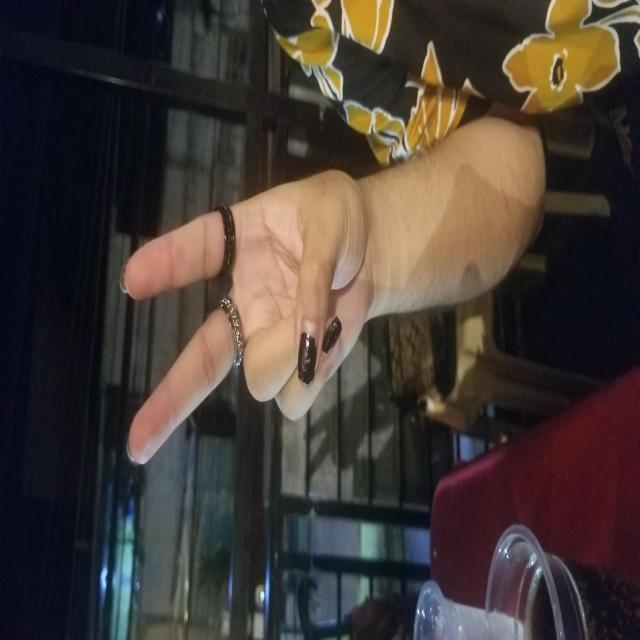V: (177, 122, 463, 368)
